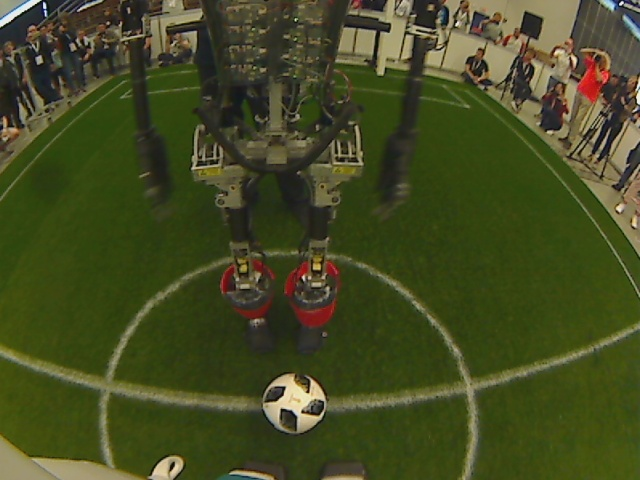ball: (259, 368, 331, 437)
